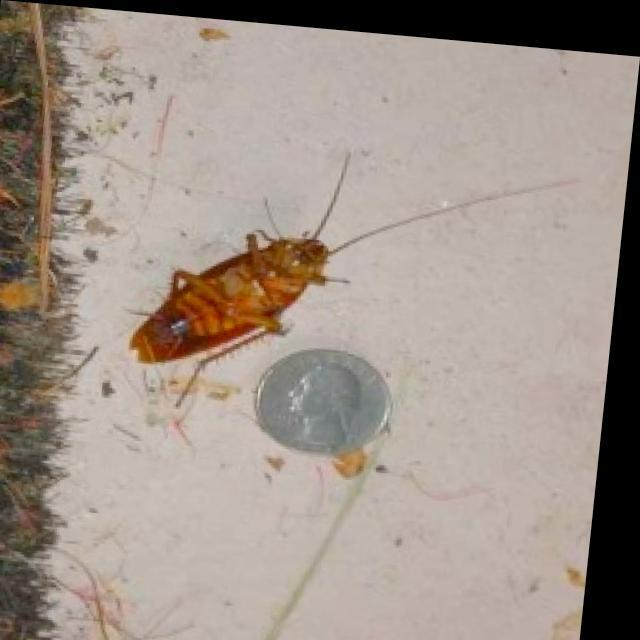cockroach: (128, 231, 334, 364)
